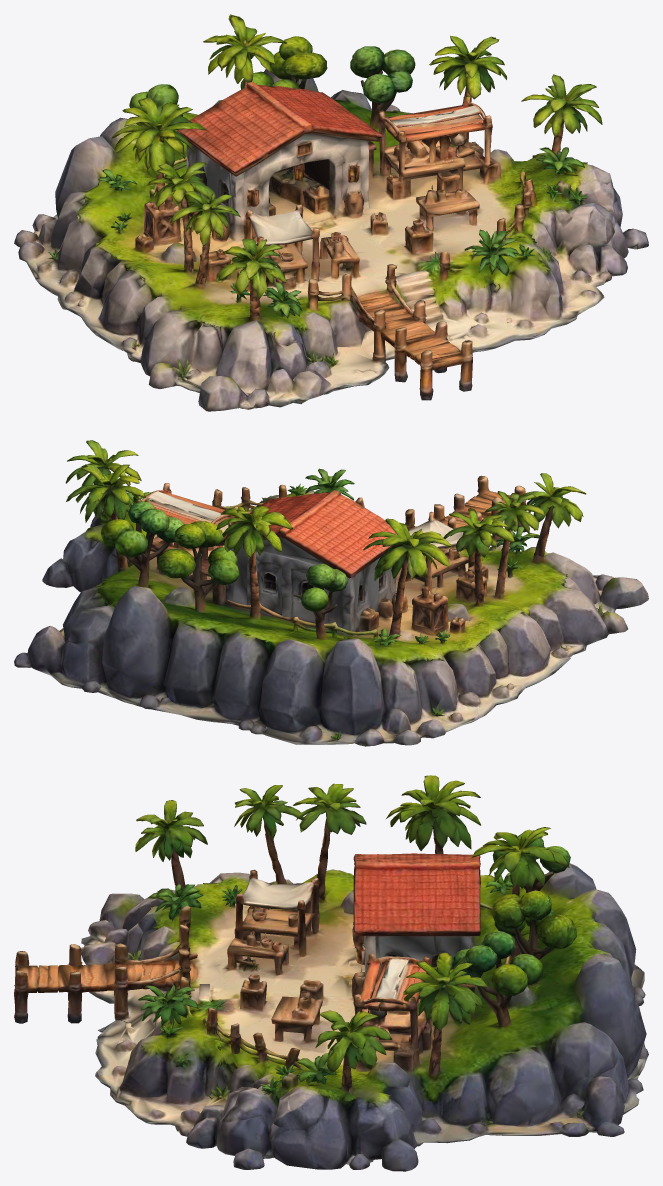
Rendered from startups.glb.
The picture shows the model from 3 angles, top to bottom: view 1: azimuth 30°, elevation 25°; view 2: azimuth 150°, elevation 25°; view 3: azimuth 270°, elevation 25°; orthographic projection. The views are drawn at different scales.
Parts seen in each view (by area): view 1: tripo_node_5e9c7ea2-5324-40eb-940b-4533042e563d; view 2: tripo_node_5e9c7ea2-5324-40eb-940b-4533042e563d; view 3: tripo_node_5e9c7ea2-5324-40eb-940b-4533042e563d.
Boxes of the visible parts, box(x1,y1,x2,y2) form: tripo_node_5e9c7ea2-5324-40eb-940b-4533042e563d: box(14, 14, 648, 411); tripo_node_5e9c7ea2-5324-40eb-940b-4533042e563d: box(14, 440, 648, 746); tripo_node_5e9c7ea2-5324-40eb-940b-4533042e563d: box(14, 775, 648, 1171).
Bounding box in the file's own units: 0.9803 × 0.3394 × 0.9684.
Materials: 1 (1 with a texture image).
